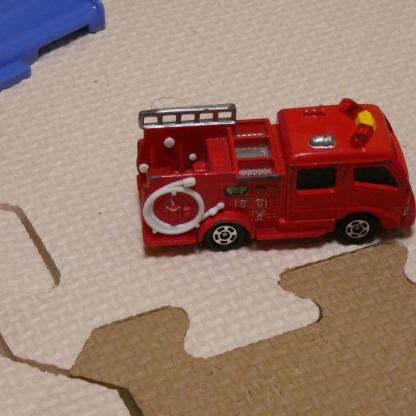car: (133, 102, 414, 252)
